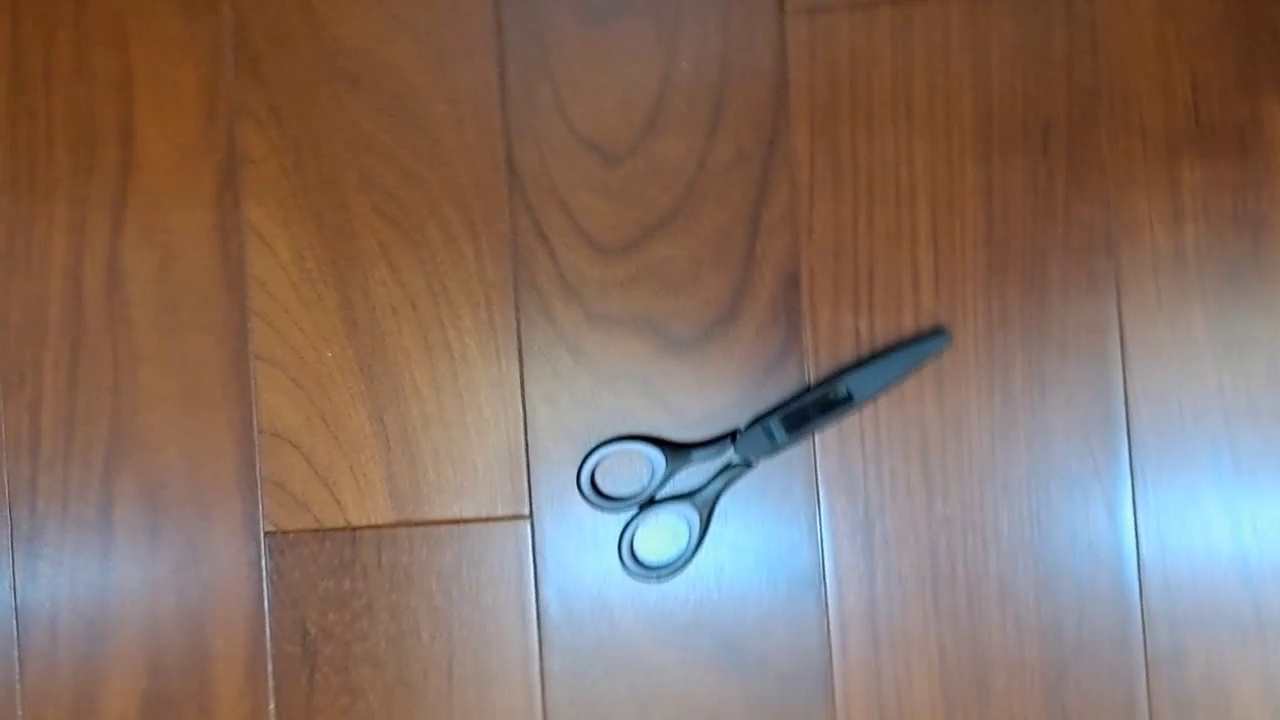scissors: (574, 321, 956, 584)
